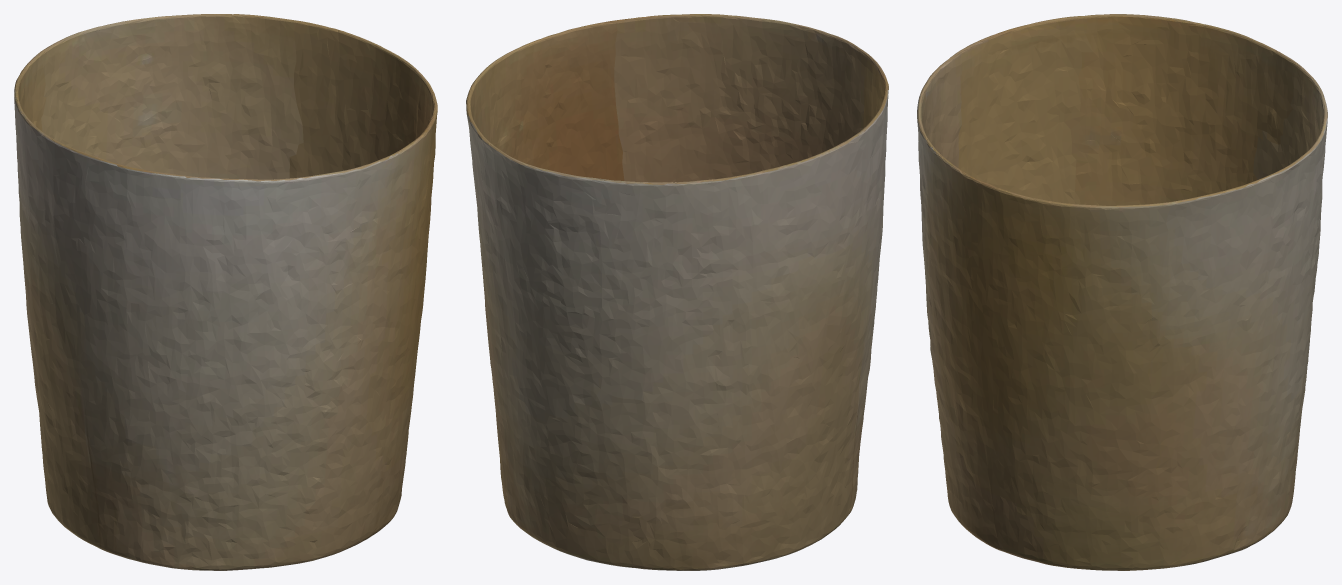
The model's file is c12_bin_s0.glb.
3 renders of one model, left to right at view 1: azimuth 30°, elevation 25°; view 2: azimuth 150°, elevation 25°; view 3: azimuth 270°, elevation 25°, orthographic. The views are drawn at different scales.
Visible parts, largest first — view 1: textured.obj; view 2: textured.obj; view 3: textured.obj.
Boxes of the visible parts, x1,y1,x2,y2 form: textured.obj: (14,14,437,570); textured.obj: (466,14,888,570); textured.obj: (917,14,1327,570).
Bounding box in the file's own units: 1.86 × 1.98 × 1.84.
Materials: 1 (1 with a texture image).
